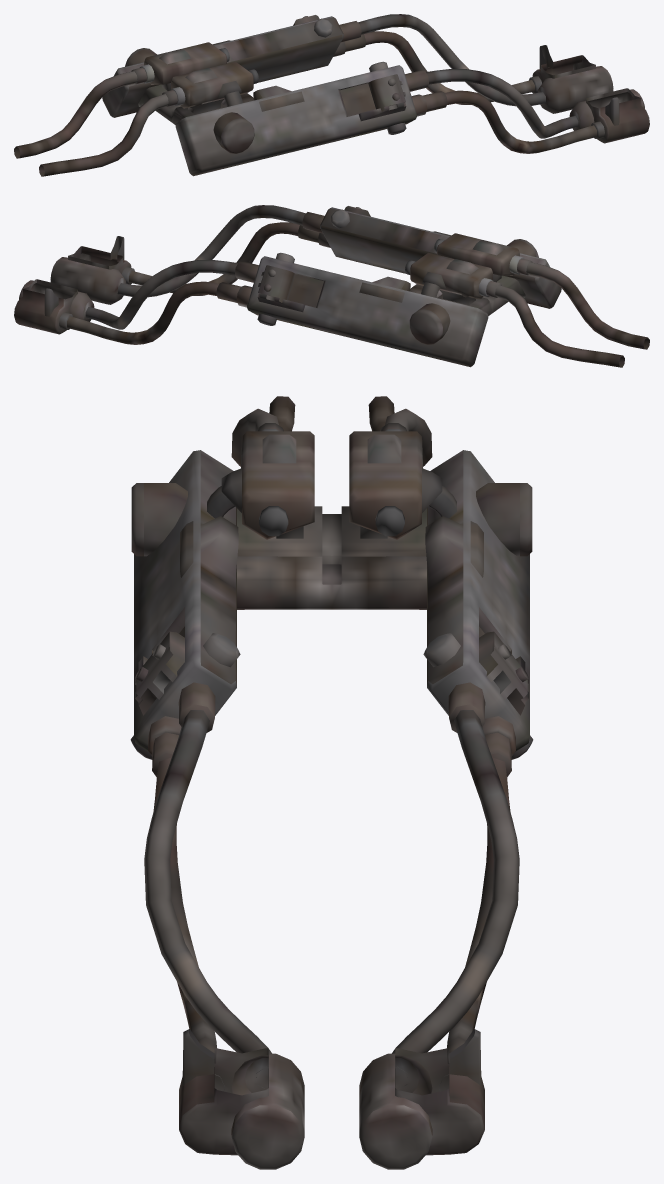
Rendered from HeavyWeapons_Vladof_Barrel_Gruppa_Acc_1.obj.
3 views of the same model, one above another, from view 1: azimuth 30°, elevation 25°; view 2: azimuth 150°, elevation 25°; view 3: azimuth 270°, elevation 25° (orthographic). The views are drawn at different scales.
Visible parts, largest first — view 1: SK_HW_VLA.103, SK_HW_VLA.101, SK_HW_VLA.102, SK_HW_VLA.108, SK_HW_VLA.130, SK_HW_VLA.131, SK_HW_VLA.135, SK_HW_VLA.120, SK_HW_VLA.118, SK_HW_VLA.107, SK_HW_VLA.134, SK_HW_VLA.125 (+8 smaller); view 2: SK_HW_VLA.103, SK_HW_VLA.102, SK_HW_VLA.101, SK_HW_VLA.118, SK_HW_VLA.131, SK_HW_VLA.130, SK_HW_VLA.134, SK_HW_VLA.107, SK_HW_VLA.108, SK_HW_VLA.120, SK_HW_VLA.135, SK_HW_VLA.121 (+8 smaller); view 3: SK_HW_VLA.103, SK_HW_VLA.101, SK_HW_VLA.102, SK_HW_VLA.130, SK_HW_VLA.131, SK_HW_VLA.108, SK_HW_VLA.118, SK_HW_VLA.121, SK_HW_VLA.125, SK_HW_VLA.134, SK_HW_VLA.135, SK_HW_VLA.107 (+5 smaller).
Boxes of the visible parts, left/top/right/bottom form: SK_HW_VLA.103: left=102, top=15, right=416, bottom=176; SK_HW_VLA.101: left=532, top=45, right=613, bottom=113; SK_HW_VLA.102: left=569, top=88, right=649, bottom=143; SK_HW_VLA.108: left=171, top=62, right=253, bottom=114; SK_HW_VLA.130: left=358, top=14, right=546, bottom=106; SK_HW_VLA.131: left=426, top=69, right=578, bottom=138; SK_HW_VLA.135: left=445, top=90, right=596, bottom=153; SK_HW_VLA.120: left=39, top=94, right=168, bottom=176; SK_HW_VLA.118: left=144, top=42, right=226, bottom=91; SK_HW_VLA.107: left=14, top=71, right=137, bottom=158; SK_HW_VLA.134: left=364, top=31, right=534, bottom=104; SK_HW_VLA.125: left=213, top=112, right=254, bottom=153; SK_HW_VLA.103: left=247, top=206, right=561, bottom=367; SK_HW_VLA.102: left=50, top=236, right=131, bottom=304; SK_HW_VLA.101: left=14, top=279, right=94, bottom=334; SK_HW_VLA.118: left=410, top=253, right=492, bottom=305; SK_HW_VLA.131: left=117, top=205, right=305, bottom=297; SK_HW_VLA.130: left=85, top=260, right=237, bottom=329; SK_HW_VLA.134: left=67, top=281, right=218, bottom=344; SK_HW_VLA.107: left=495, top=285, right=624, bottom=367; SK_HW_VLA.108: left=437, top=233, right=519, bottom=282; SK_HW_VLA.120: left=526, top=262, right=649, bottom=349; SK_HW_VLA.135: left=129, top=222, right=299, bottom=295; SK_HW_VLA.121: left=409, top=303, right=450, bottom=344; SK_HW_VLA.103: left=134, top=450, right=529, bottom=751; SK_HW_VLA.101: left=359, top=1029, right=484, bottom=1169; SK_HW_VLA.102: left=179, top=1029, right=304, bottom=1169; SK_HW_VLA.130: left=392, top=710, right=519, bottom=1088; SK_HW_VLA.131: left=144, top=710, right=271, bottom=1088; SK_HW_VLA.108: left=221, top=431, right=314, bottom=539; SK_HW_VLA.118: left=349, top=431, right=442, bottom=539; SK_HW_VLA.121: left=476, top=483, right=532, bottom=556; SK_HW_VLA.125: left=131, top=483, right=187, bottom=556; SK_HW_VLA.134: left=447, top=757, right=510, bottom=1052; SK_HW_VLA.135: left=153, top=757, right=216, bottom=1052; SK_HW_VLA.107: left=368, top=396, right=432, bottom=466.
Size of the model in its own units: 60.8 by 15.12 by 17.91.
